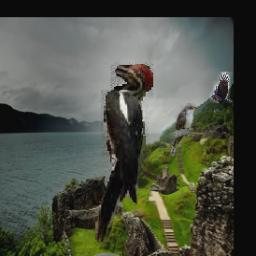Crow: (210, 73, 234, 104)
Cuckoo: (169, 103, 197, 157)
Woodpecker: (95, 62, 153, 242)
